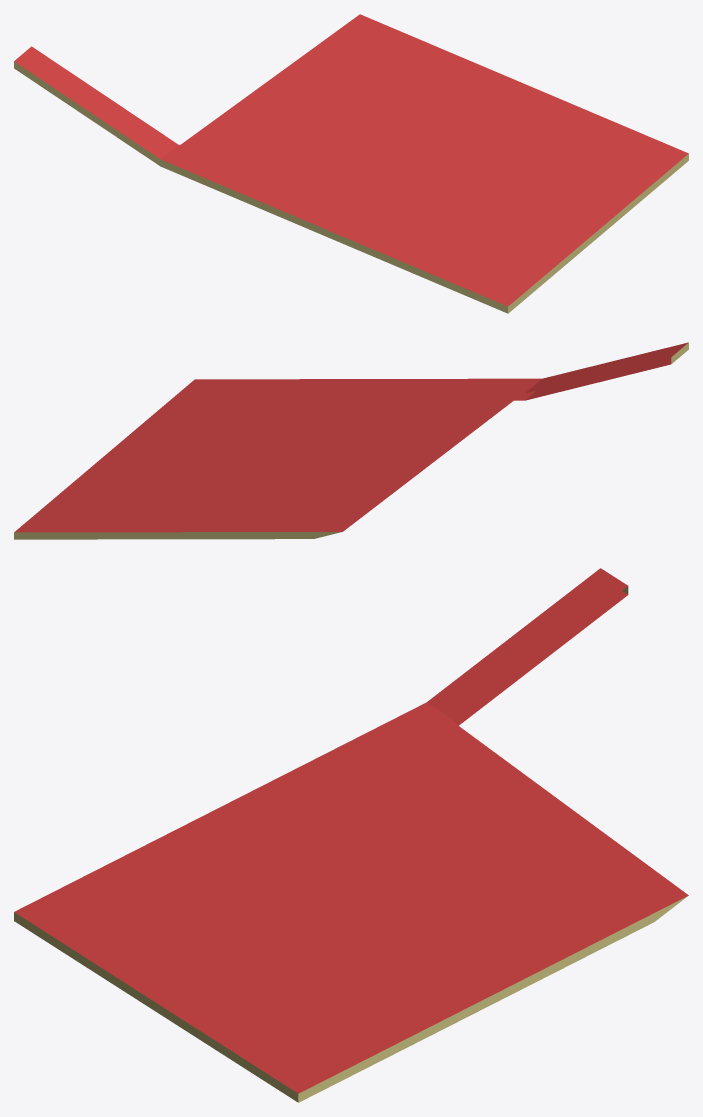
3 renders of one model, top to bottom at view 1: azimuth 30°, elevation 25°; view 2: azimuth 210°, elevation 25°; view 3: azimuth 270°, elevation 25°, orthographic. The views are drawn at different scales.
Bounding box in the file's own units: 8.14 × 6.71 × 2.07.
